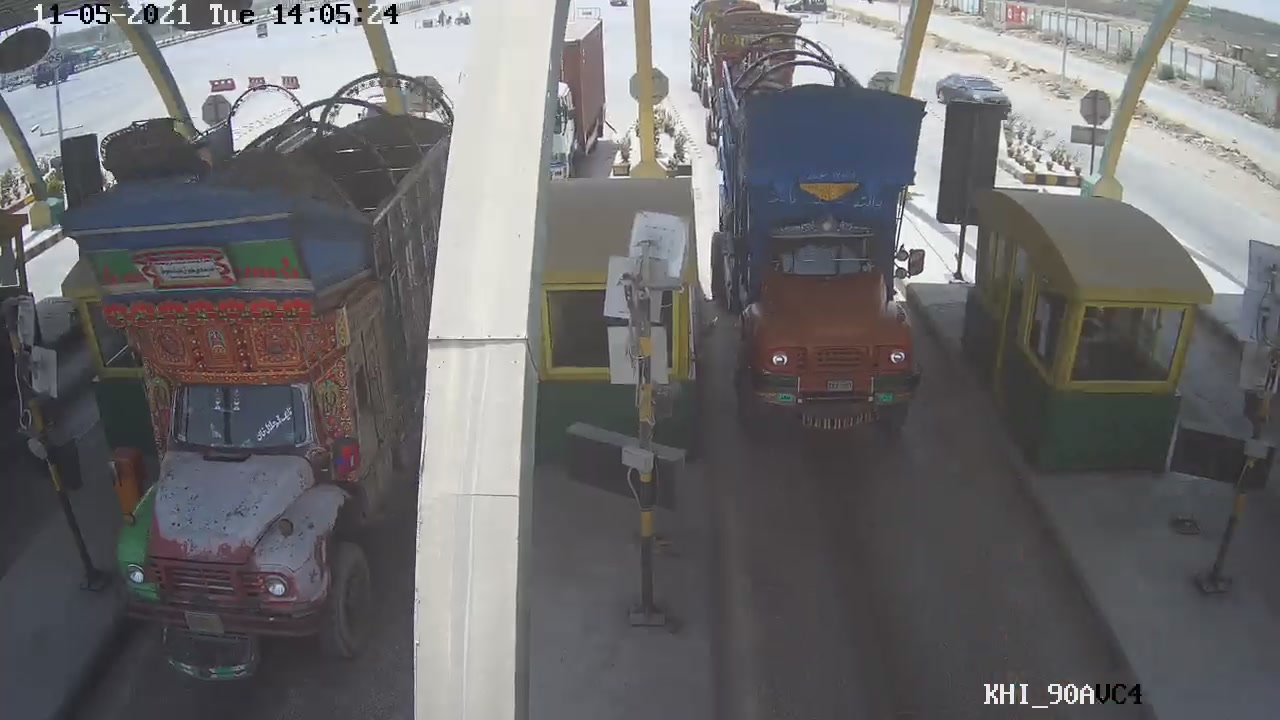F5: (689, 43, 943, 459)
